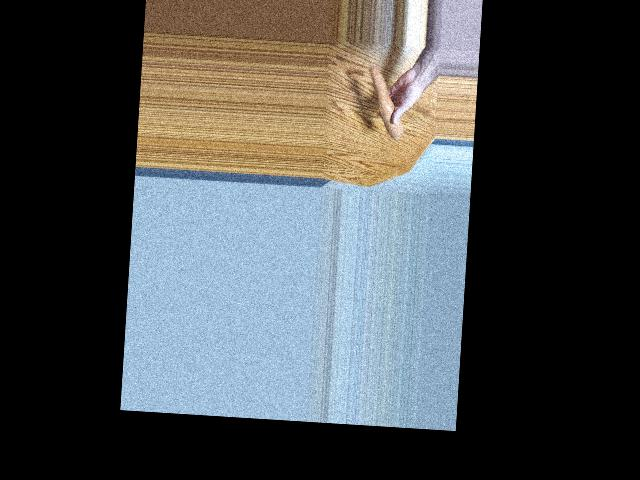sweet_potato: (370, 65, 398, 142)
